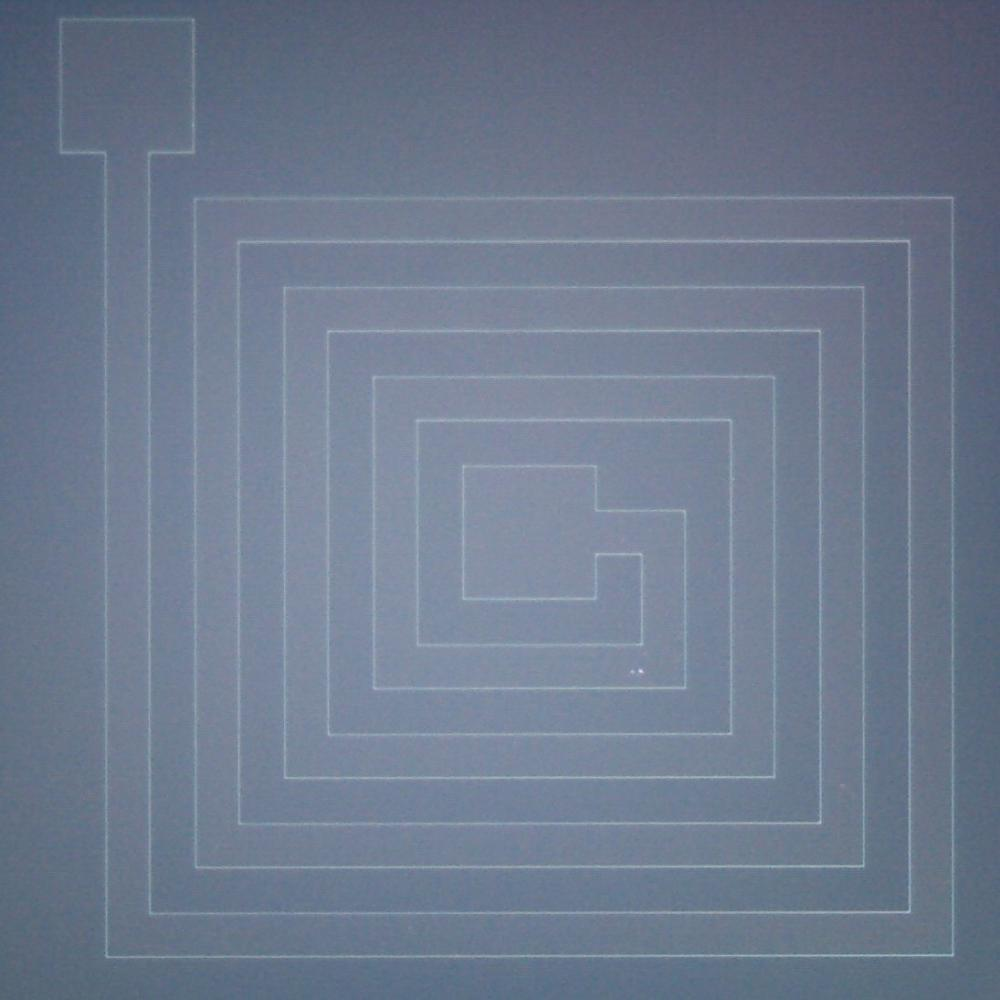dot: (638, 669, 643, 674)
